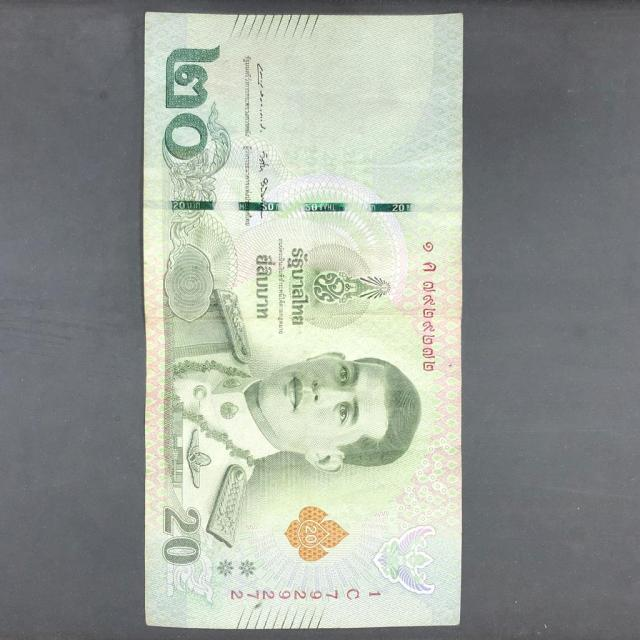THAI20: (143, 12, 462, 629)
